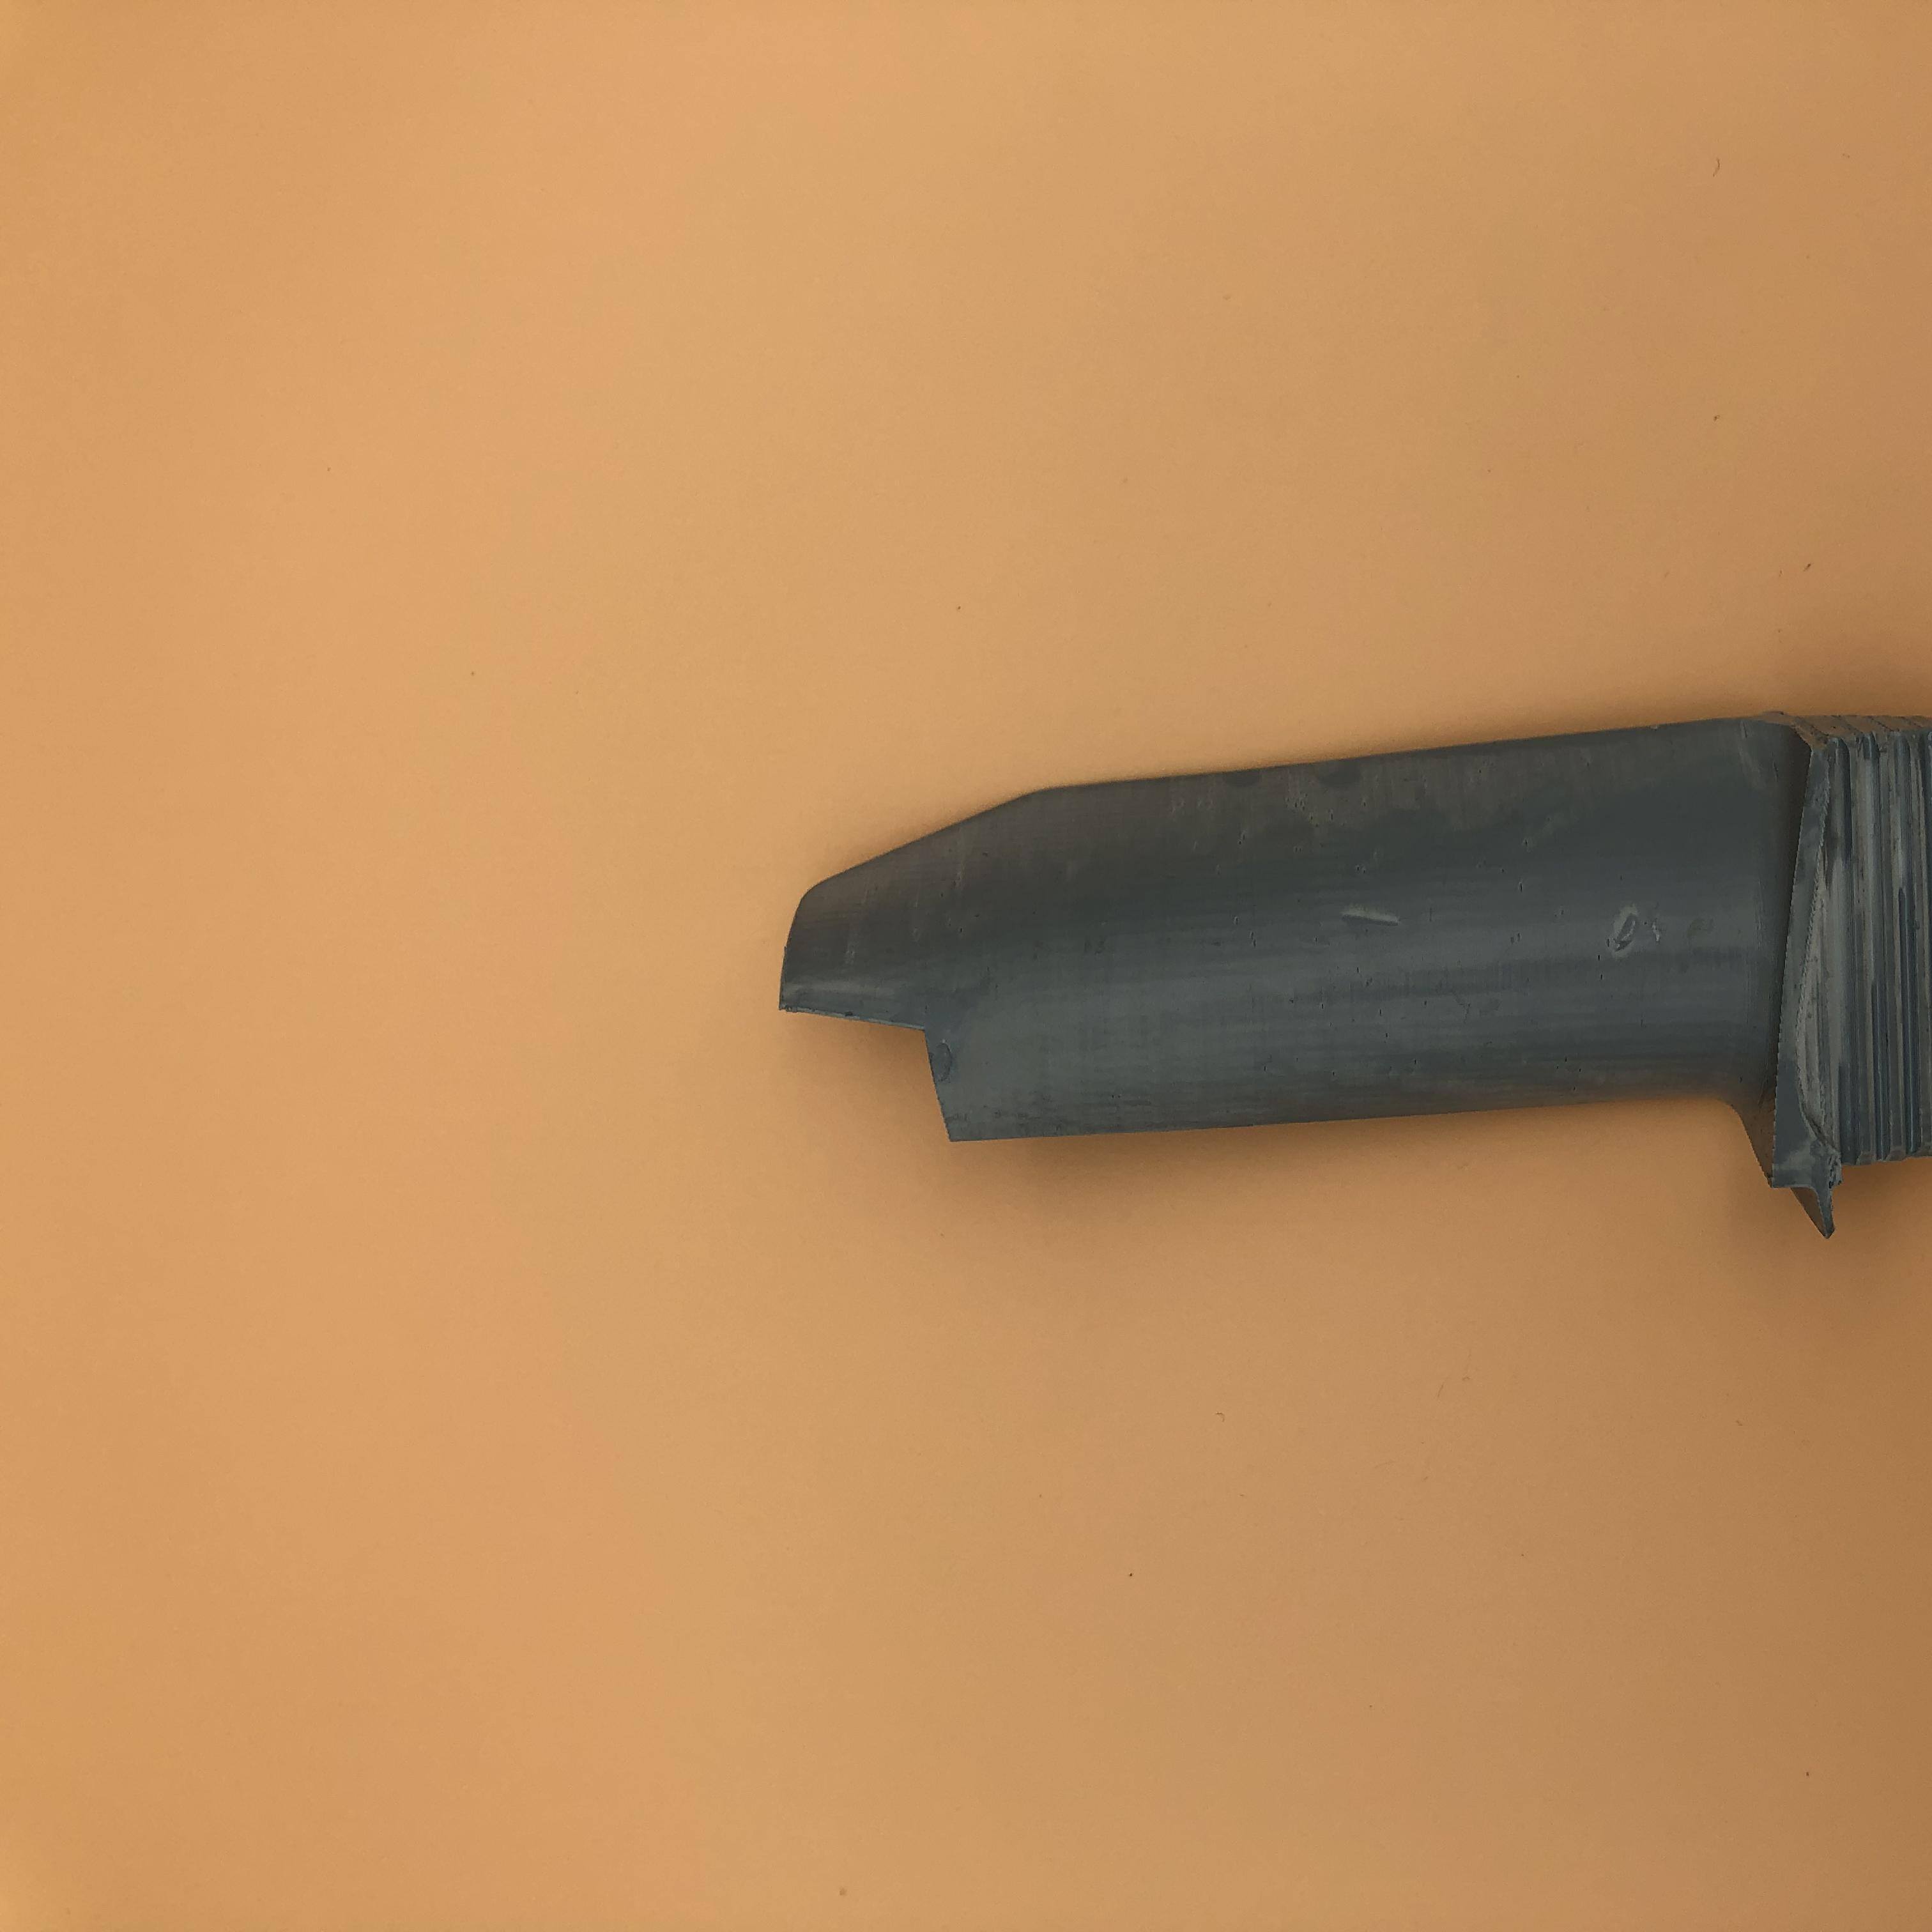fracture: (791, 991, 994, 1139)
